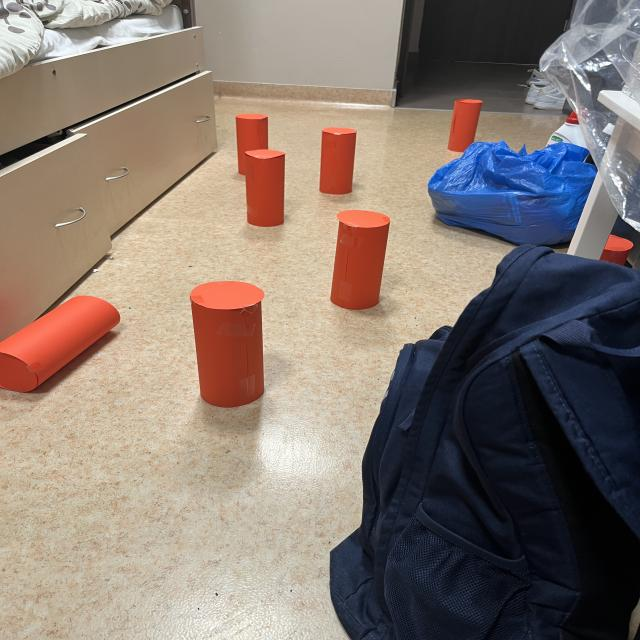przeszkoda: (0, 296, 119, 392), (190, 281, 264, 407), (331, 210, 390, 310), (245, 149, 284, 227), (319, 127, 356, 195), (236, 114, 268, 175), (448, 100, 481, 152)
